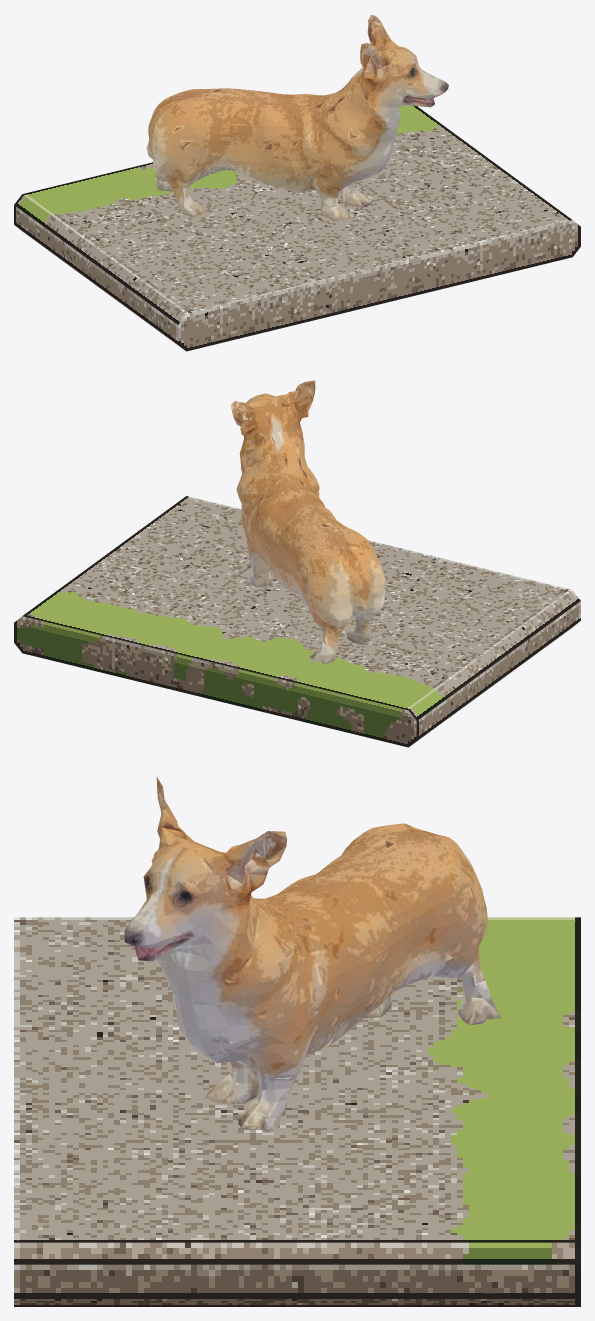
Rendered from corgi.glb.
3 renders of one model, top to bottom at view 1: azimuth 30°, elevation 25°; view 2: azimuth 150°, elevation 25°; view 3: azimuth 270°, elevation 25°, orthographic. The views are drawn at different scales.
Parts seen in each view (by area): view 1: base, model_dog; view 2: base, model_dog; view 3: base, model_dog.
Part boxes in pixels (<box>): base: <box>14,105,580,351</box>; model_dog: <box>146,14,448,221</box>; base: <box>14,496,580,747</box>; model_dog: <box>230,380,385,664</box>; base: <box>14,917,580,1306</box>; model_dog: <box>124,777,500,1131</box>.
Bounding box in the file's own units: 34 × 18.1 × 24.
2 materials, 2 textured.
